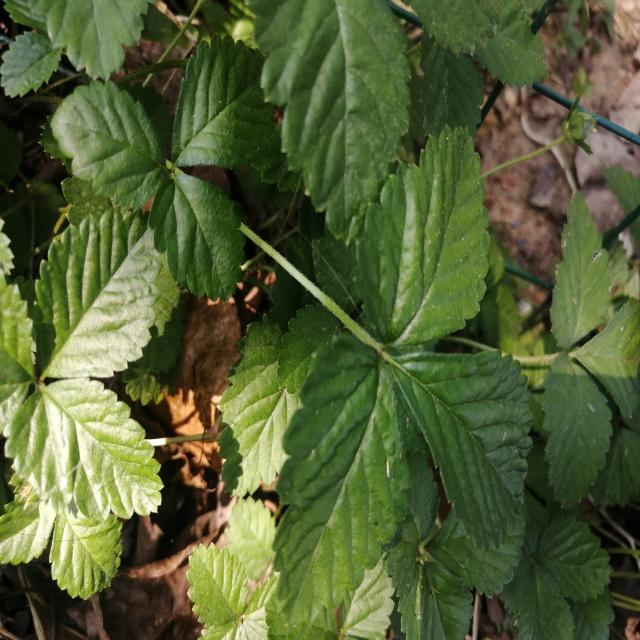Mock_strawberry: (258, 136, 553, 582)
